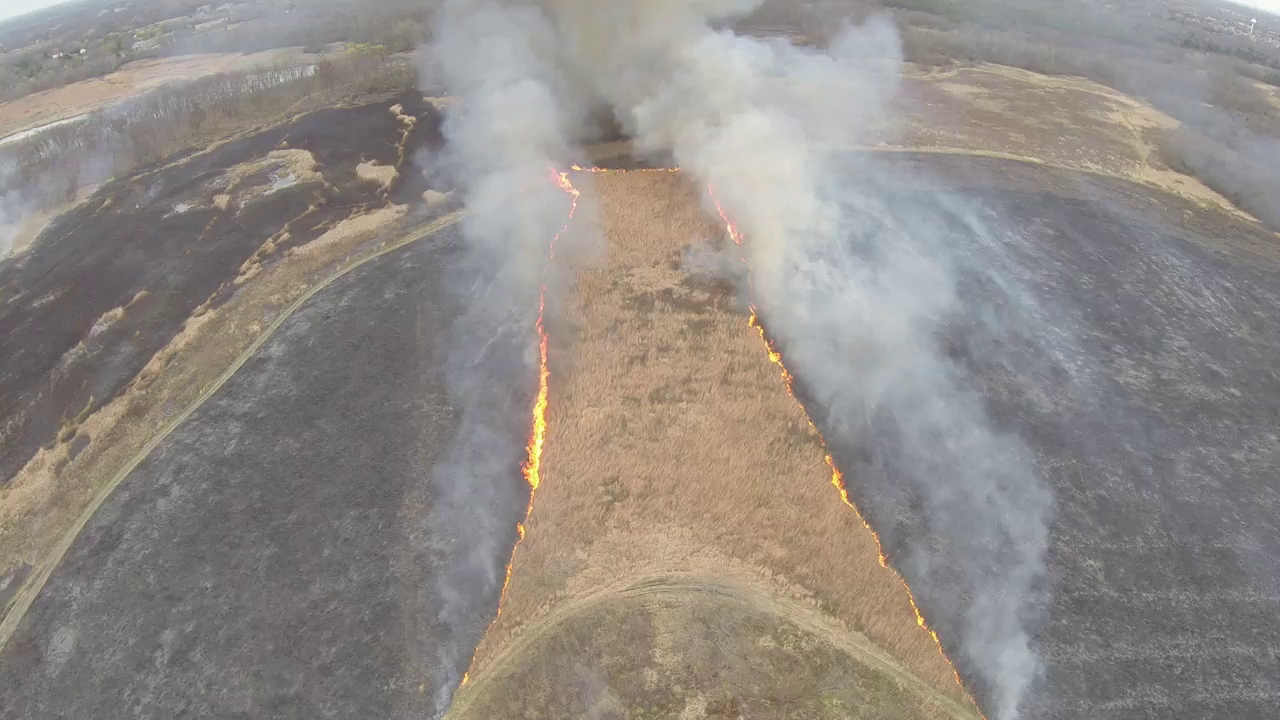forest_fire: (748, 307, 949, 662), (489, 286, 549, 628), (708, 185, 741, 243), (550, 168, 580, 230)
